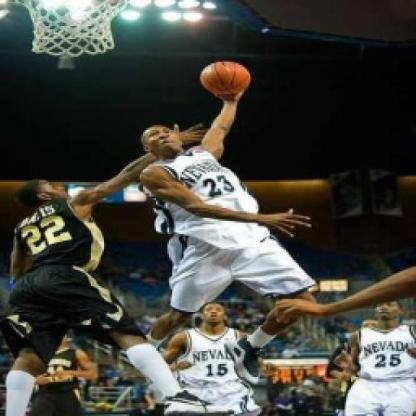basketball: (195, 56, 256, 100)
